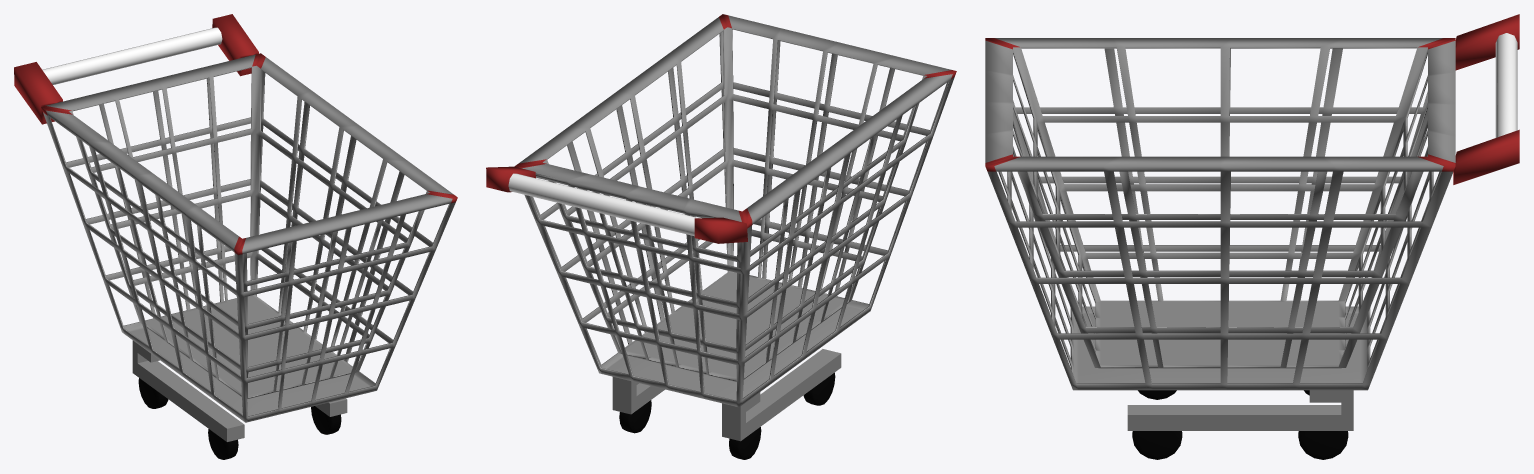
Rendered from Supermarket_Run_Grocery_Cart.fbx.
3 views of the same model, side by side, from view 1: azimuth 30°, elevation 25°; view 2: azimuth 150°, elevation 25°; view 3: azimuth 270°, elevation 25° (orthographic). The views are drawn at different scales.
Visible parts, largest first — view 1: Supermarket_Run_Grocery_Cart, Supermarket_Run_Grocery_Cart_Wheel_Stand_2, Supermarket_Run_Grocery_Cart_Cylinder, Supermarket_Run_Grocery_Cart_Wheel03, Supermarket_Run_Grocery_Cart_Wheel01, Supermarket_Run_Grocery_Cart_Wheel04; view 2: Supermarket_Run_Grocery_Cart, Supermarket_Run_Grocery_Cart_Wheel_Stand_2, Supermarket_Run_Grocery_Cart_Cylinder, Supermarket_Run_Grocery_Cart_Wheel_Stand, Supermarket_Run_Grocery_Cart_Wheel02, Supermarket_Run_Grocery_Cart_Wheel04, Supermarket_Run_Grocery_Cart_Wheel03; view 3: Supermarket_Run_Grocery_Cart, Supermarket_Run_Grocery_Cart_Wheel_Stand, Supermarket_Run_Grocery_Cart_Cylinder, Supermarket_Run_Grocery_Cart_Wheel01, Supermarket_Run_Grocery_Cart_Wheel02.
Boxes of the visible parts, x1,y1,x2,y2 form: Supermarket_Run_Grocery_Cart: (14, 14, 457, 422); Supermarket_Run_Grocery_Cart_Wheel_Stand_2: (132, 340, 244, 441); Supermarket_Run_Grocery_Cart_Cylinder: (42, 27, 222, 84); Supermarket_Run_Grocery_Cart_Wheel03: (208, 429, 238, 459); Supermarket_Run_Grocery_Cart_Wheel01: (311, 406, 341, 434); Supermarket_Run_Grocery_Cart_Wheel04: (138, 378, 168, 408); Supermarket_Run_Grocery_Cart: (486, 14, 956, 407); Supermarket_Run_Grocery_Cart_Wheel_Stand_2: (722, 349, 841, 441); Supermarket_Run_Grocery_Cart_Cylinder: (508, 173, 698, 236); Supermarket_Run_Grocery_Cart_Wheel_Stand: (612, 377, 664, 414); Supermarket_Run_Grocery_Cart_Wheel02: (619, 400, 651, 433); Supermarket_Run_Grocery_Cart_Wheel04: (729, 427, 761, 459); Supermarket_Run_Grocery_Cart_Wheel03: (803, 372, 835, 405); Supermarket_Run_Grocery_Cart: (985, 14, 1519, 390); Supermarket_Run_Grocery_Cart_Wheel_Stand: (1127, 390, 1353, 430); Supermarket_Run_Grocery_Cart_Cylinder: (1495, 33, 1517, 137); Supermarket_Run_Grocery_Cart_Wheel01: (1132, 431, 1182, 459); Supermarket_Run_Grocery_Cart_Wheel02: (1298, 431, 1348, 459).
Bounding box in the file's own units: 101 × 129 × 179.
